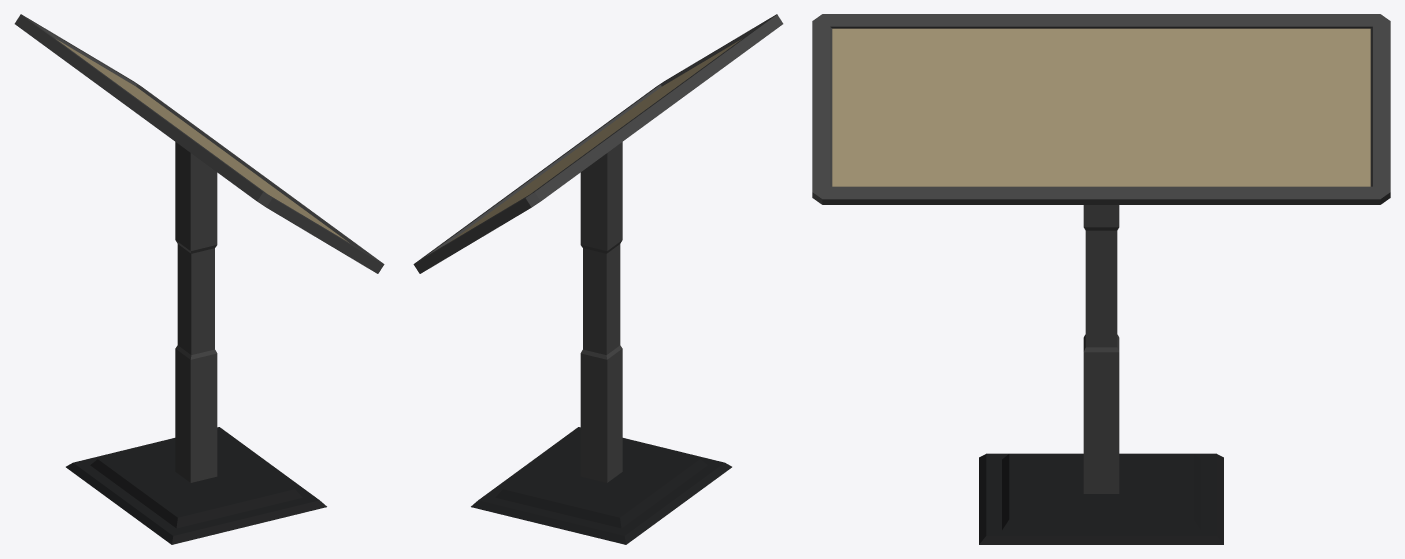
Rendered from display.fbx.
3 views of the same model, side by side, from view 1: azimuth 30°, elevation 25°; view 2: azimuth 150°, elevation 25°; view 3: azimuth 270°, elevation 25° (orthographic). The views are drawn at different scales.
Visible parts, largest first — view 1: StandBase, Cube, FaceHolder, Face; view 2: StandBase, Cube, FaceHolder, Face; view 3: Face, FaceHolder, StandBase, Cube.
Part boxes in pixels (x1=…): StandBase: x1=66, y1=427, x2=326, y2=544; Cube: x1=175, y1=142, x2=217, y2=482; FaceHolder: x1=14, y1=14, x2=384, y2=273; Face: x1=56, y1=39, x2=348, y2=242; StandBase: x1=471, y1=427, x2=731, y2=544; Cube: x1=580, y1=142, x2=622, y2=482; FaceHolder: x1=413, y1=14, x2=783, y2=273; Face: x1=449, y1=39, x2=741, y2=242; Face: x1=832, y1=28, x2=1370, y2=186; FaceHolder: x1=812, y1=14, x2=1390, y2=204; StandBase: x1=979, y1=453, x2=1223, y2=544; Cube: x1=1083, y1=205, x2=1119, y2=493.
Bounding box in the file's own units: 254 × 620 × 712.
